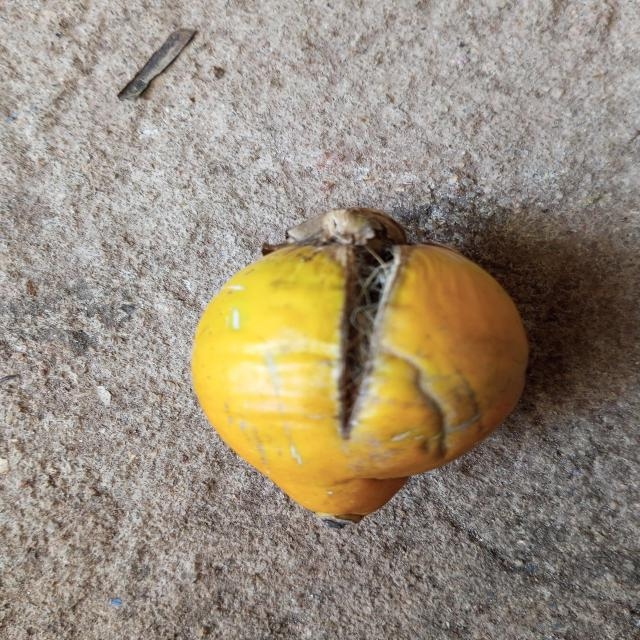damaged: (192, 207, 528, 528)
